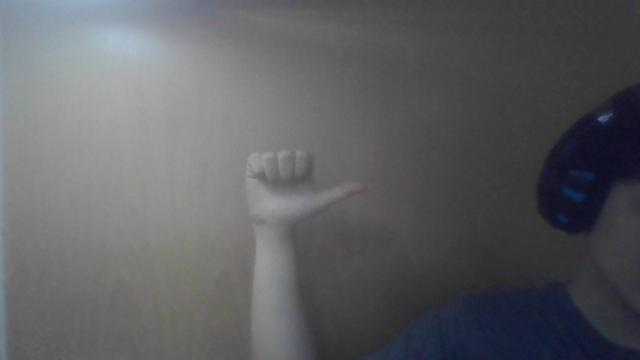left: (238, 146, 374, 238)
